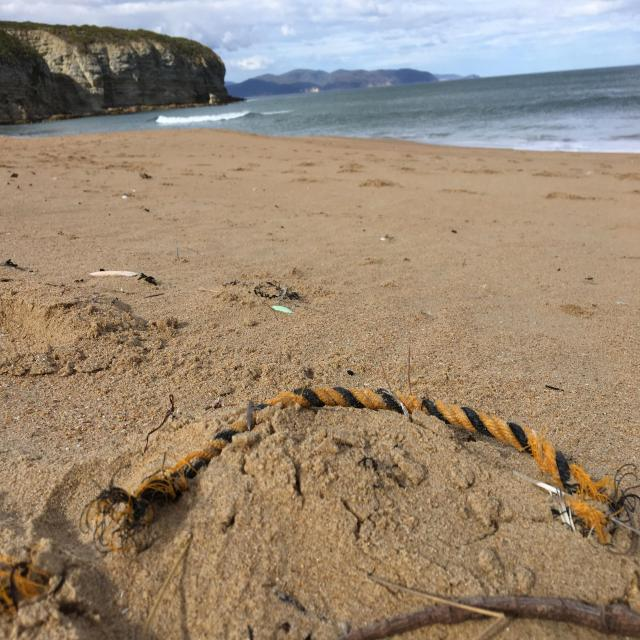litter: (80, 383, 636, 556), (0, 545, 52, 616)
